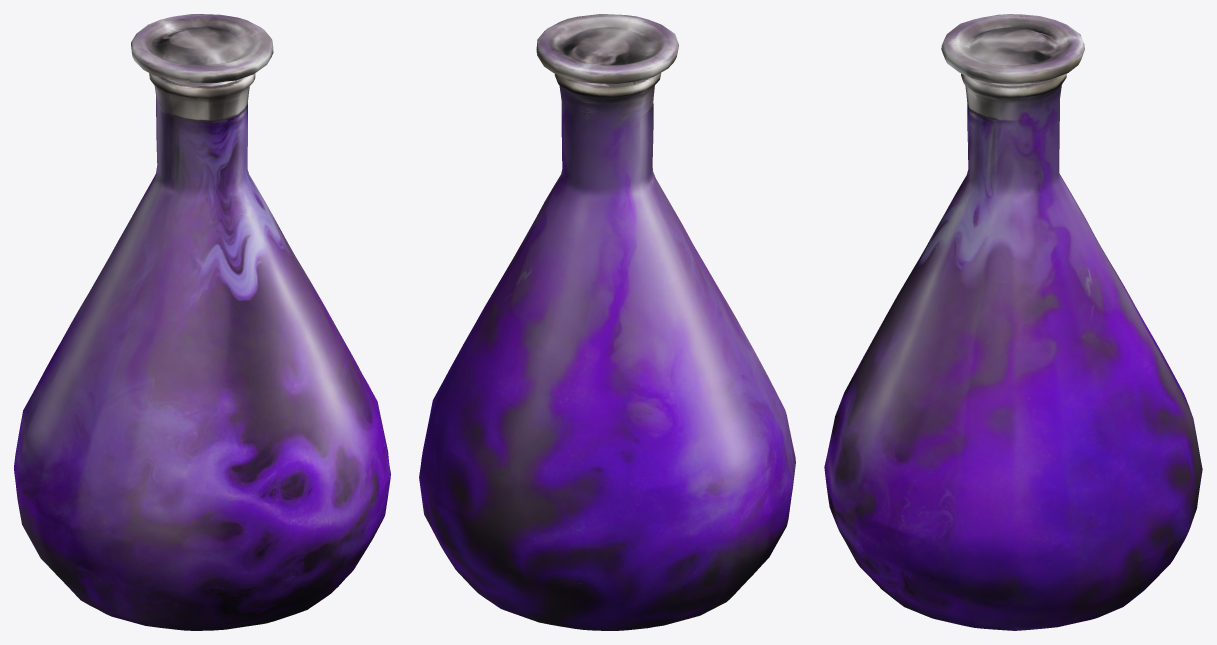
3 views of the same model, side by side, from view 1: azimuth 30°, elevation 25°; view 2: azimuth 150°, elevation 25°; view 3: azimuth 270°, elevation 25° (orthographic).
Parts seen in each view (by area): view 1: Mesh1.0; view 2: Mesh1.0; view 3: Mesh1.0.
Boxes of the visible parts, x1,y1,x2,y2 form: Mesh1.0: (14, 14, 390, 630); Mesh1.0: (419, 14, 795, 630); Mesh1.0: (824, 14, 1202, 630).
Size of the model in its own units: 128 by 200 by 127.
1 material, 1 textured.
